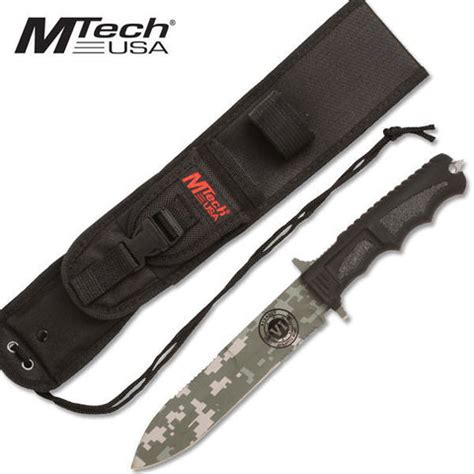knife: (128, 148, 470, 472)
